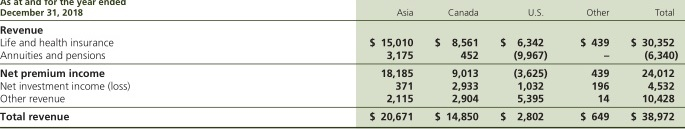column: (1, 1, 131, 129), (500, 1, 547, 129), (631, 1, 678, 129), (369, 2, 414, 129), (435, 1, 478, 129), (581, 2, 611, 129)
row: (1, 68, 685, 79), (1, 38, 685, 48), (1, 82, 685, 92), (1, 94, 685, 104), (1, 112, 685, 122), (1, 8, 685, 17), (1, 26, 685, 35), (1, 1, 685, 7)
